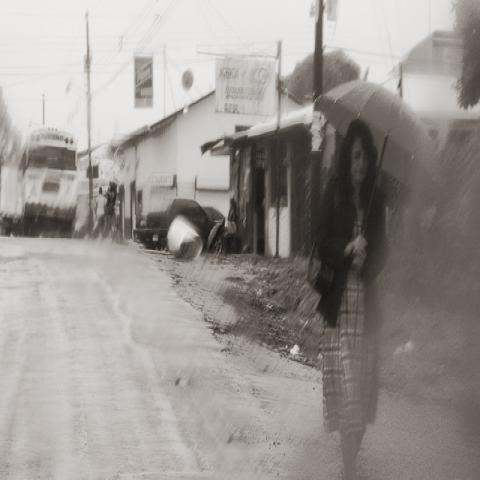bus: (14, 125, 78, 239)
car: (148, 200, 224, 250)
